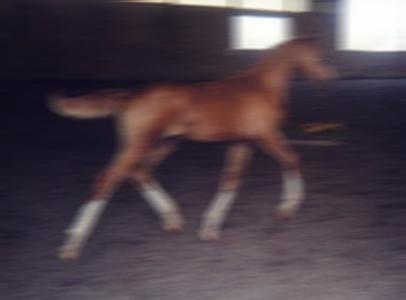horse: (47, 25, 337, 261)
